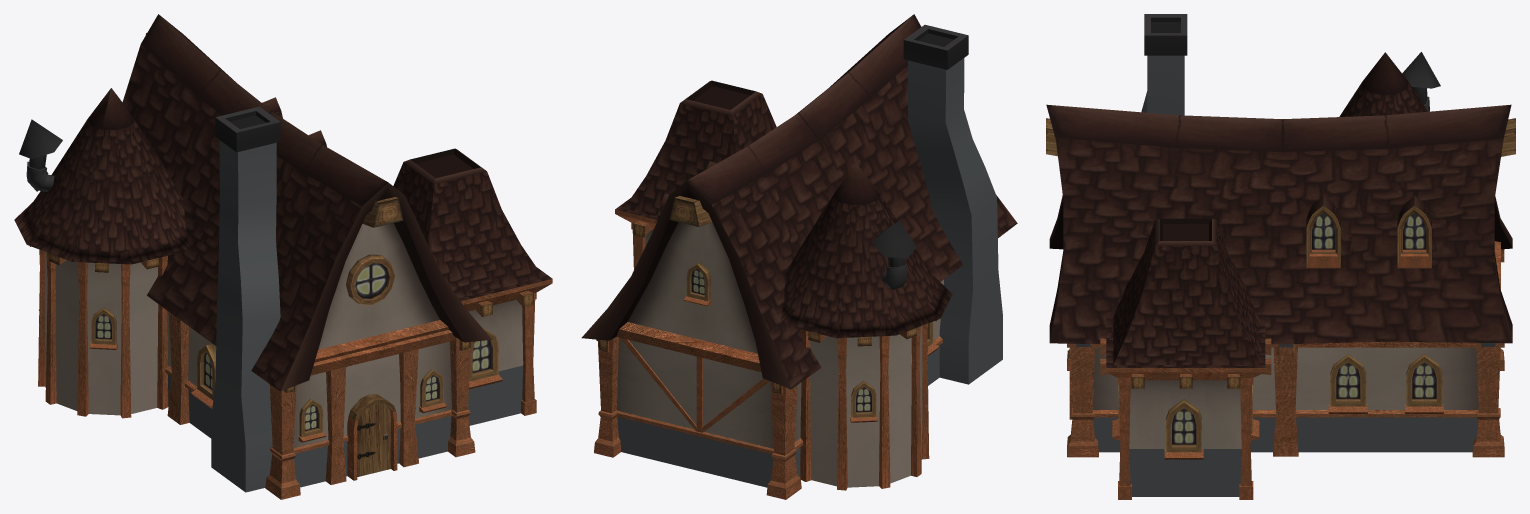
File: fanasty_mod_village_building26.fbx
The picture shows the model from 3 angles, left to right: view 1: azimuth 30°, elevation 25°; view 2: azimuth 150°, elevation 25°; view 3: azimuth 270°, elevation 25°; orthographic projection. The views are drawn at different scales.
Parts seen in each view (by area): view 1: village_building_026; view 2: village_building_026; view 3: village_building_026.
Boxes of the visible parts, bbox=[...] form: village_building_026: bbox=[14, 14, 552, 499]; village_building_026: bbox=[581, 14, 1017, 499]; village_building_026: bbox=[1046, 14, 1515, 499].
Size of the model in its own units: 12.27 by 10.16 by 12.57.
